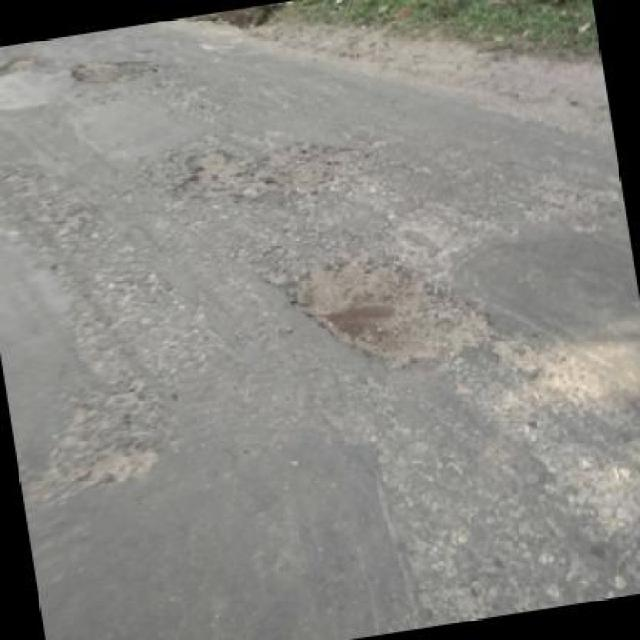pothole: (281, 228, 507, 388), (168, 122, 381, 215), (70, 44, 165, 93), (2, 49, 49, 85)
